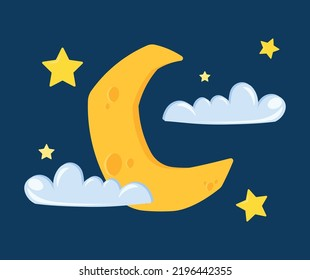cloud: (23, 161, 154, 208), (160, 80, 287, 126)
moon: (84, 41, 235, 216)
star: (41, 46, 83, 90), (236, 187, 268, 223), (259, 38, 281, 60), (38, 143, 56, 160), (199, 71, 211, 82)
